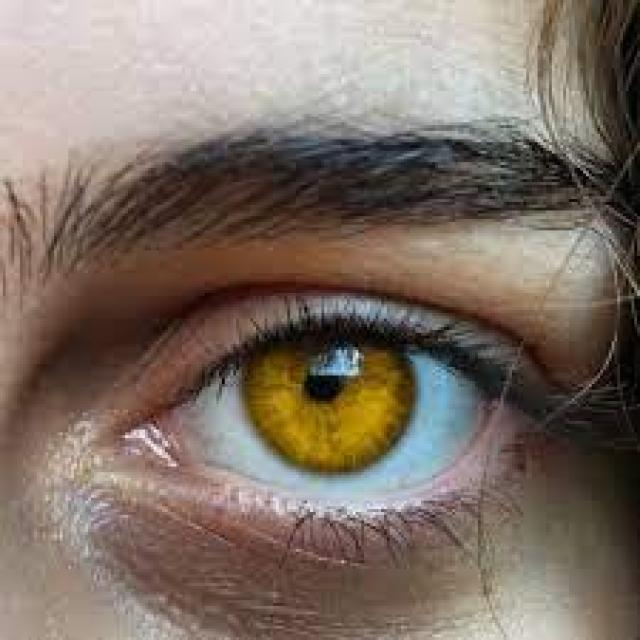Eyes-iris: (237, 313, 422, 485)
